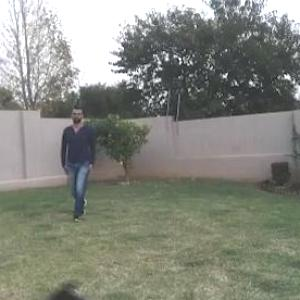follow: (62, 106, 98, 218)
